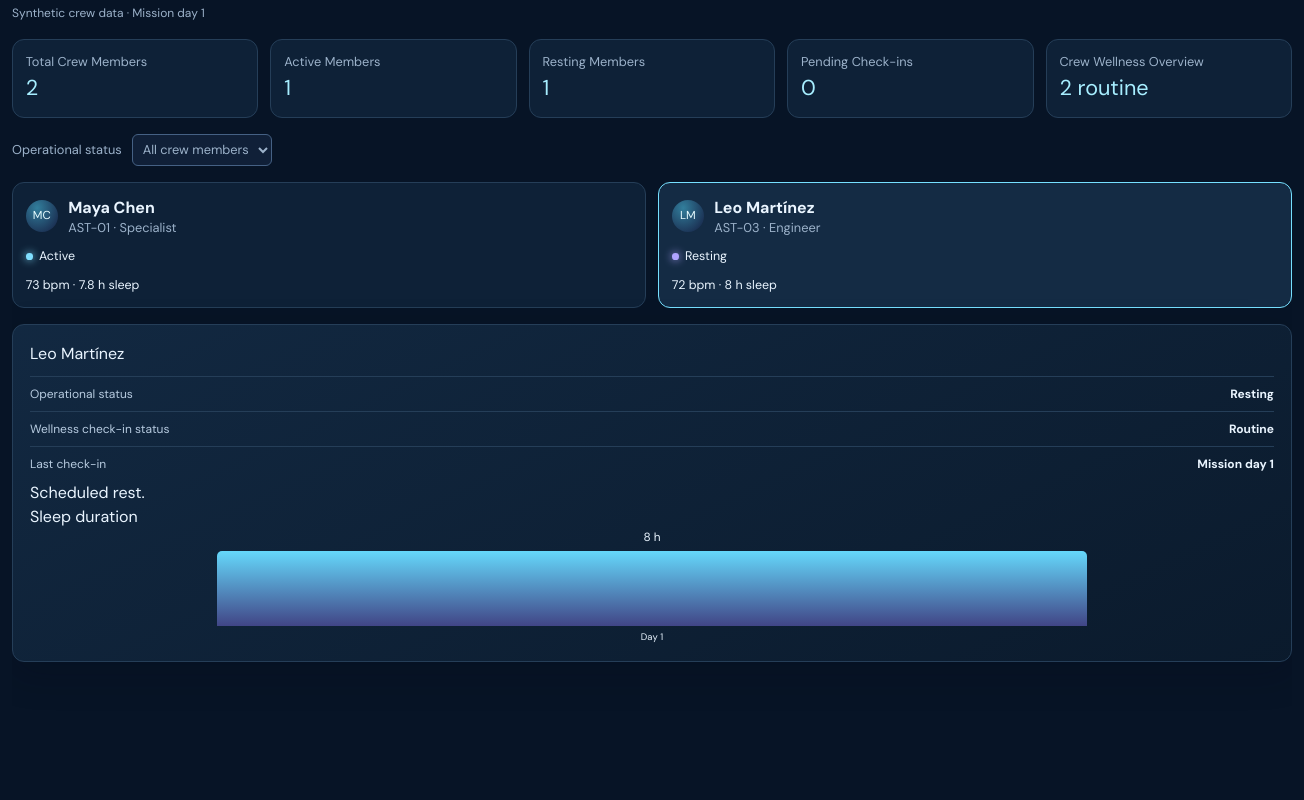
Test: filters the crew and opens the selected astronaut using synthetic records
The width and height of the screenshot is (1304, 800).
Later steps or results of the test are not shown.
expect the heading "Leo Martínez" is shown: met, box [30, 343, 124, 364]
Select "Resting" in the dropdown labelled "Operational status". click: (202,150)
box: [132, 134, 272, 166]
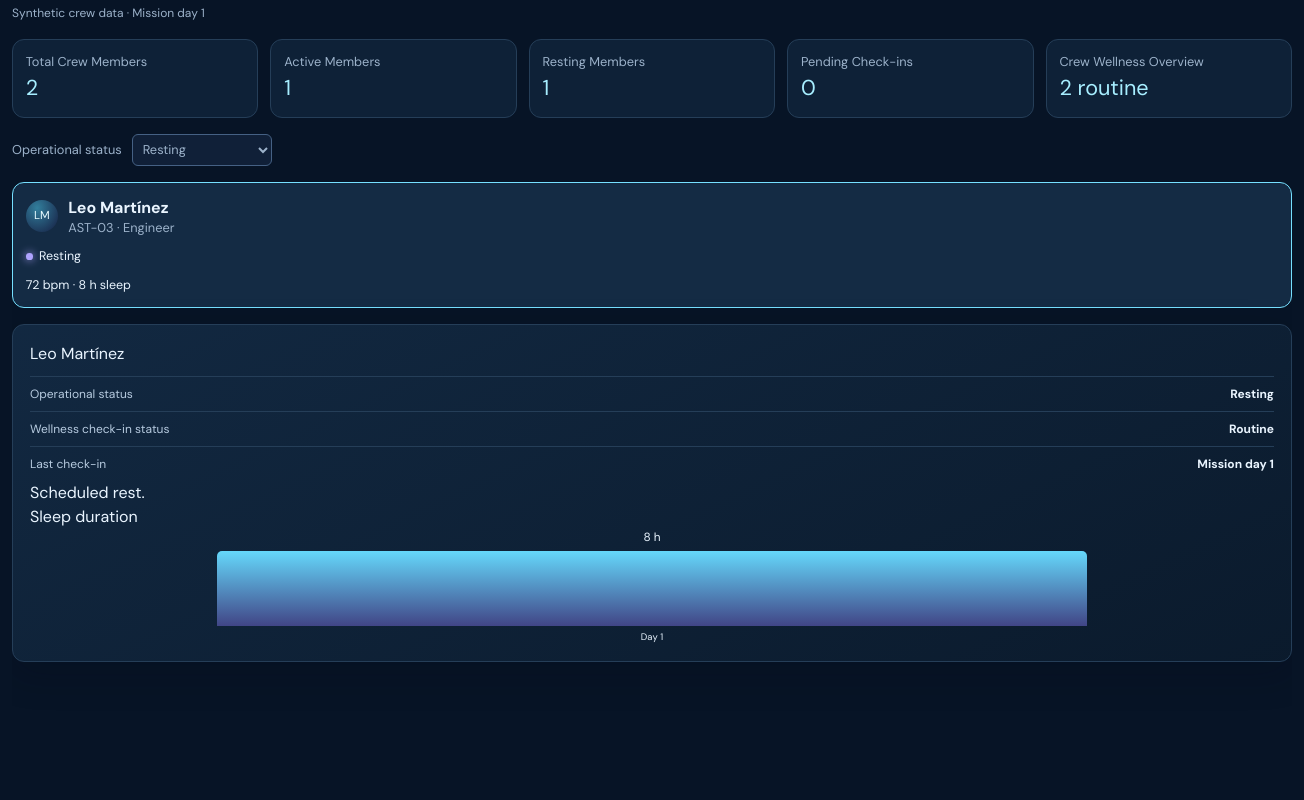
expect the number of buttons is 1: met, box [12, 182, 1292, 308]
